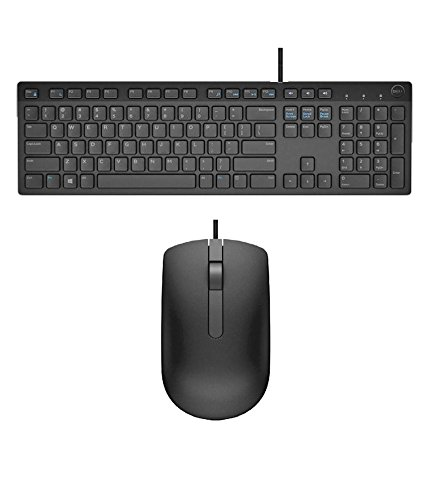dell-mouse-ms116: (156, 219, 272, 425)
